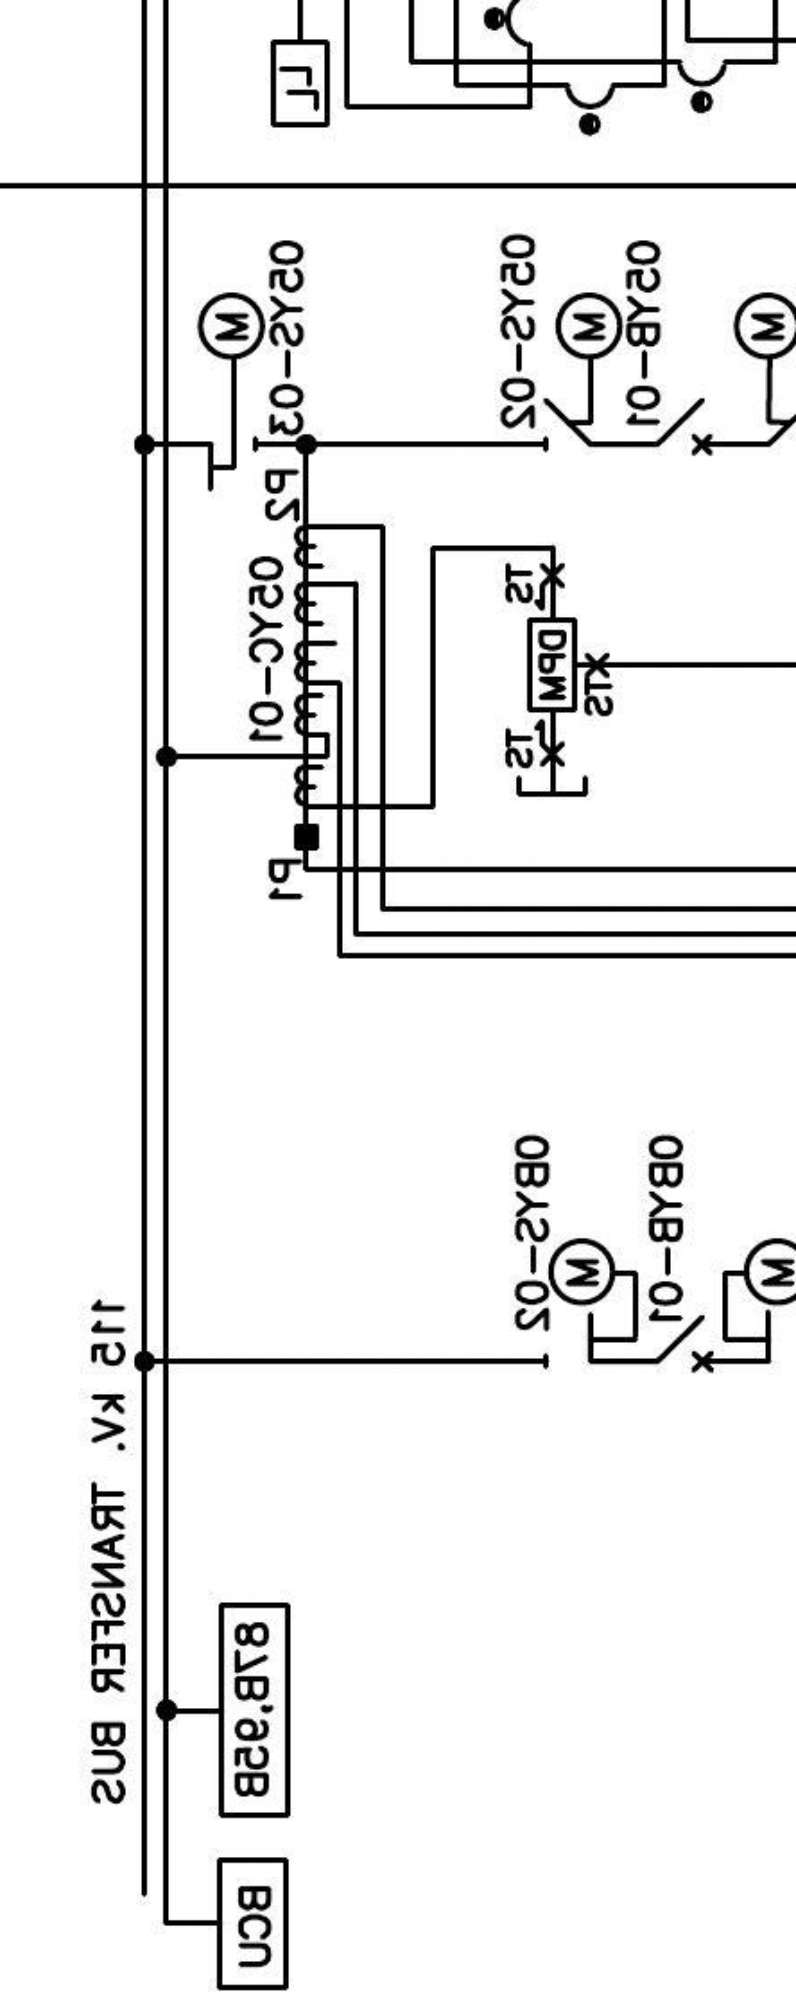115_1way_ds_w_motor: (195, 290, 267, 494), (542, 291, 624, 453), (542, 1237, 639, 1371)
115_breaker: (656, 1314, 714, 1374), (656, 397, 714, 457)
BCU: (216, 1856, 290, 1992)
DPM: (527, 616, 578, 713)
LL: (269, 38, 332, 129)
